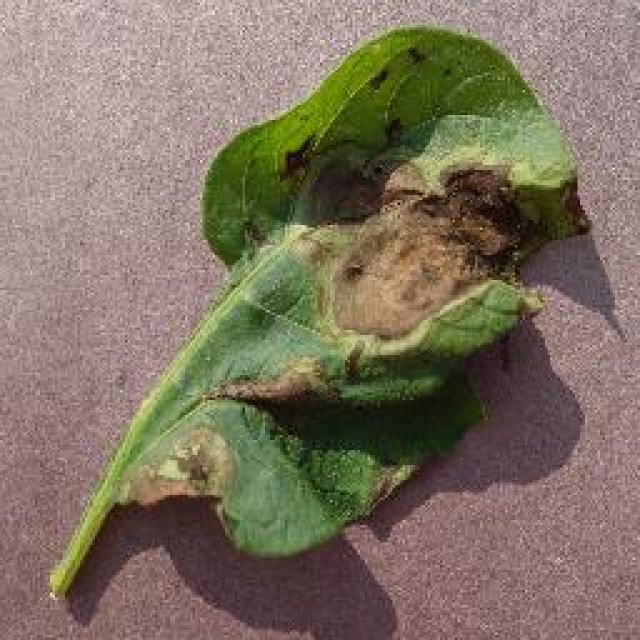late_blight: (42, 20, 592, 602)
